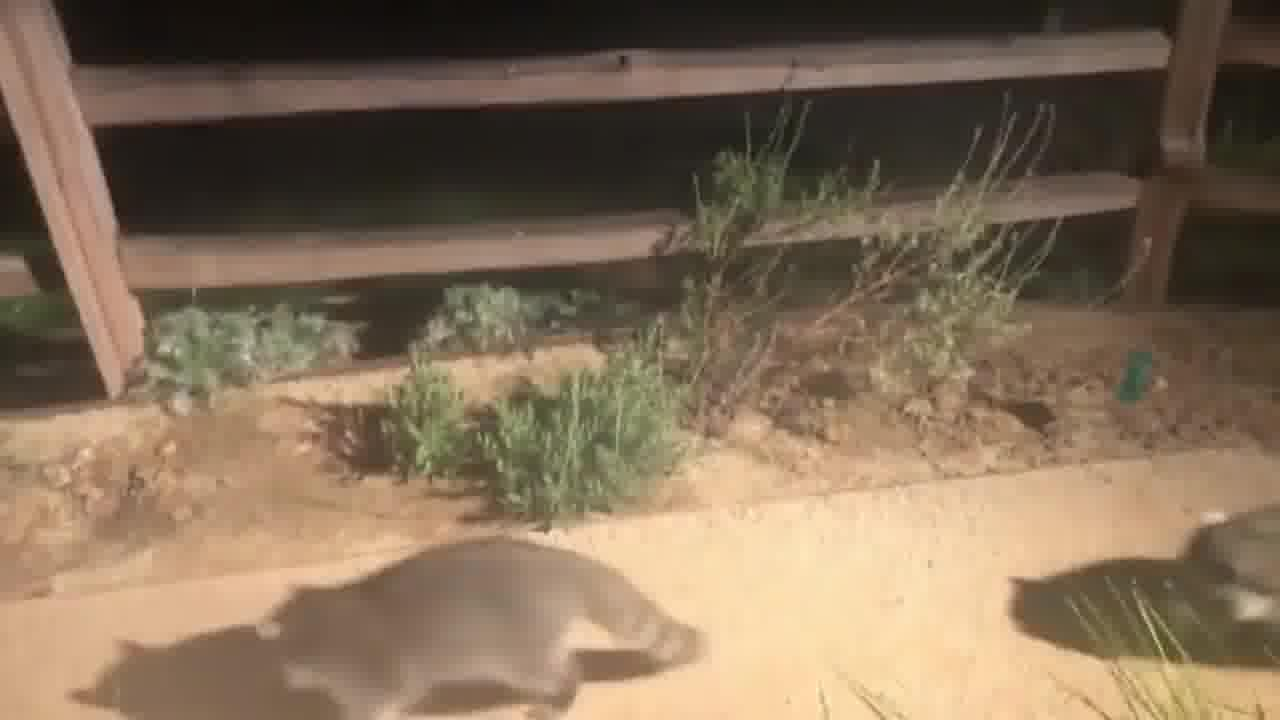raccoon: (251, 535, 712, 720), (1172, 505, 1280, 645)
